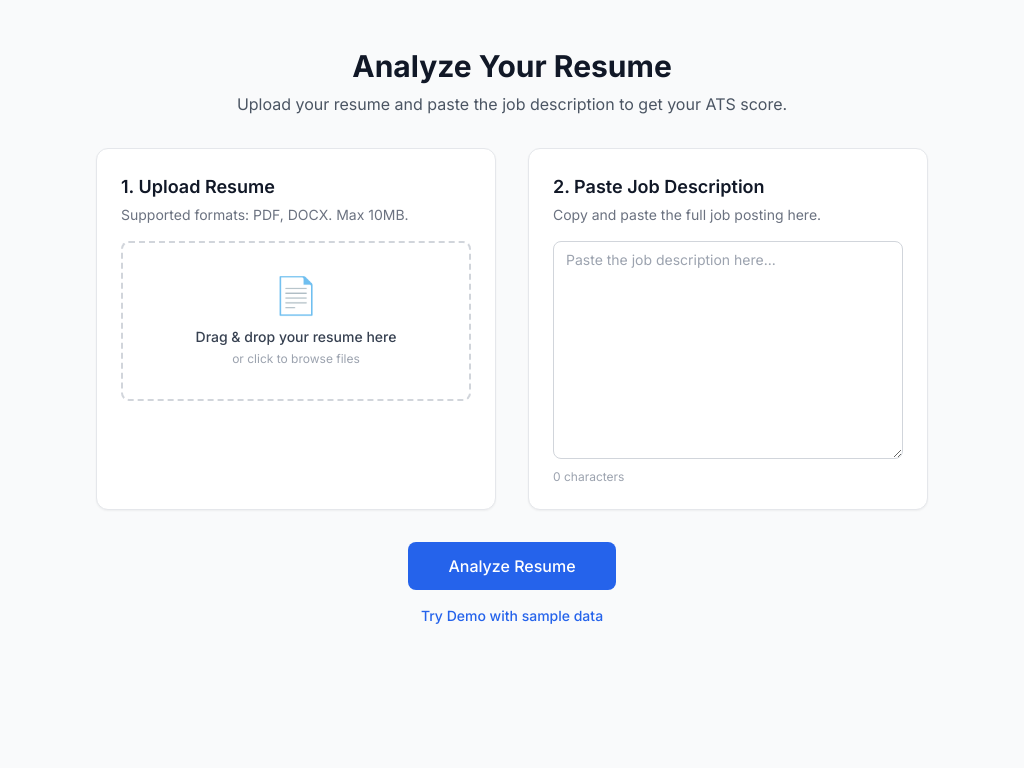
it: UploadPage demo interaction › shows a rate-limited message when the demo request gets a 429
Click the button "Try Demo with sample data" at coordinates (512, 616), box [421,606,603,626]
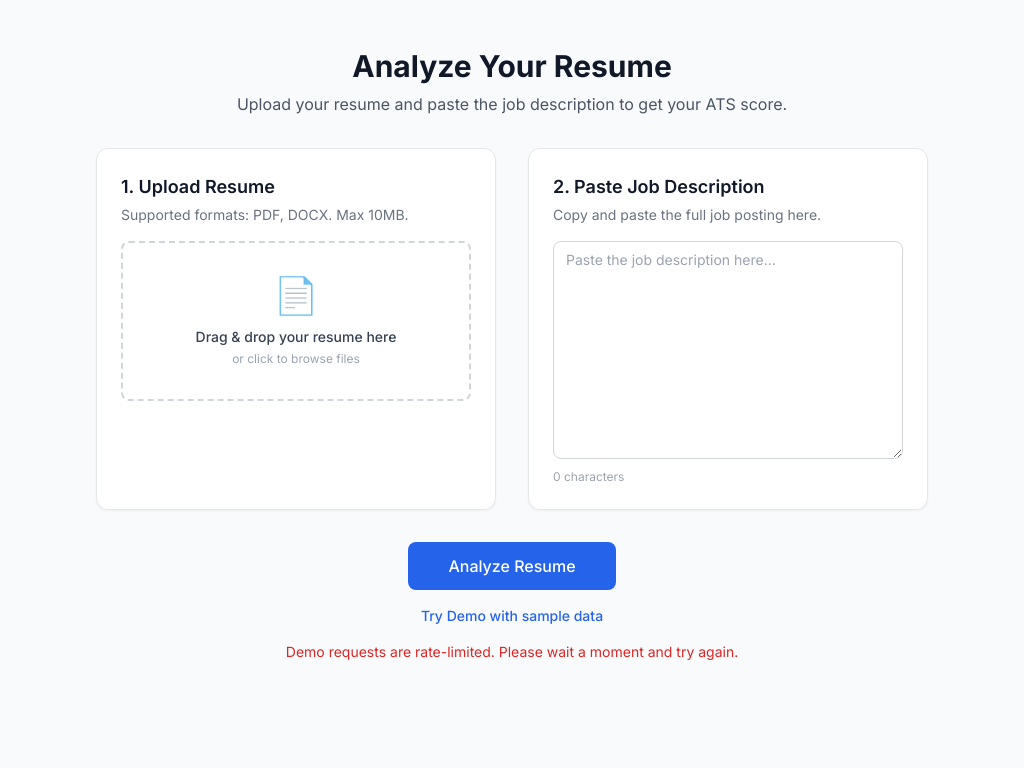
Check: the message shows "rate-limited", box [286,643,738,660]
